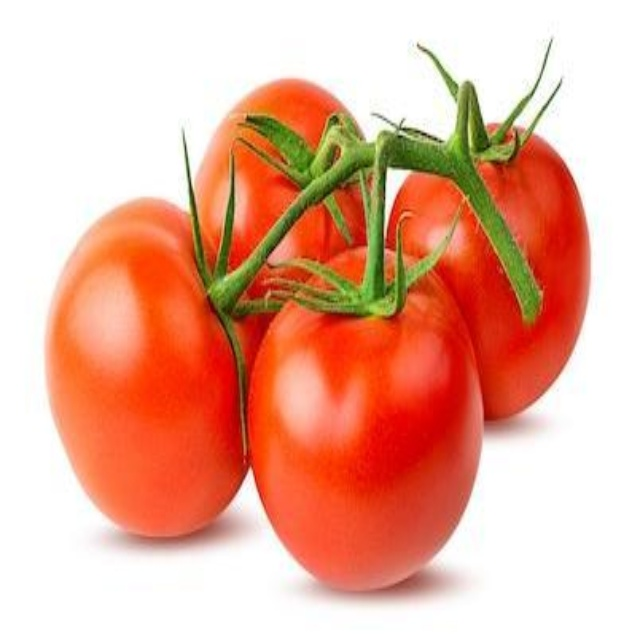tomato: (244, 244, 480, 590), (32, 206, 274, 538), (390, 128, 591, 411), (186, 76, 374, 327)
